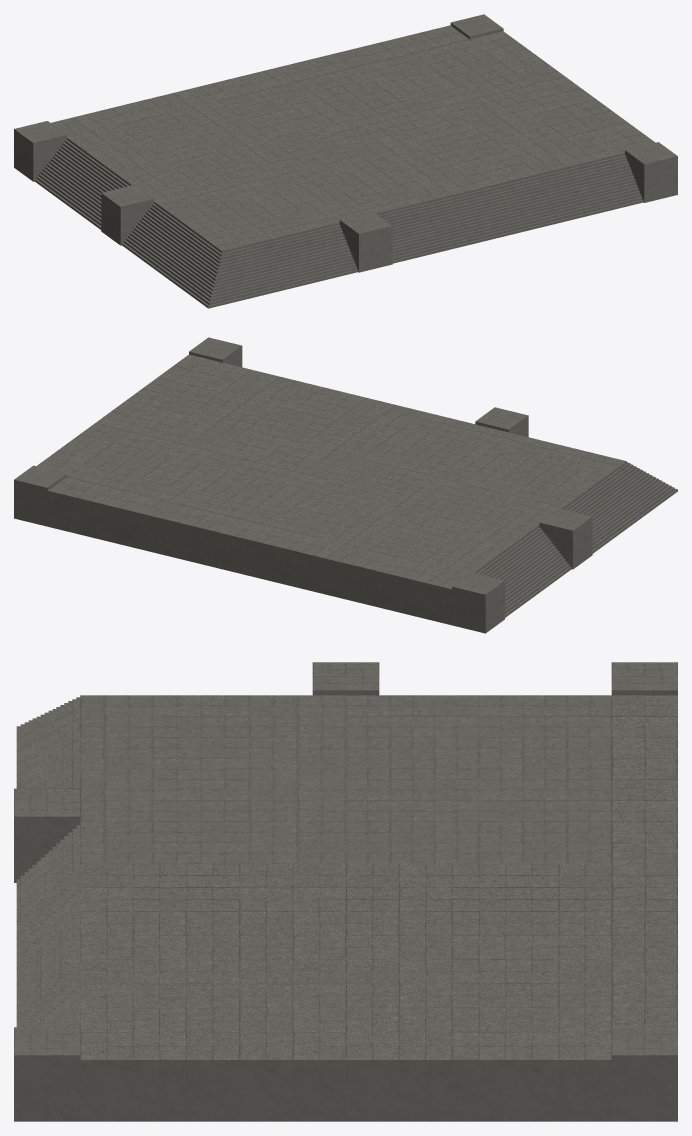
Rendered from basement_mid.fbx.
3 views of the same model, one above another, from view 1: azimuth 30°, elevation 25°; view 2: azimuth 150°, elevation 25°; view 3: azimuth 270°, elevation 25° (orthographic). The views are drawn at different scales.
Parts seen in each view (by area): view 1: basement_mid; view 2: basement_mid; view 3: basement_mid.
Part boxes in pixels (bbox=[...]): basement_mid: bbox=[14, 14, 677, 308]; basement_mid: bbox=[14, 337, 677, 633]; basement_mid: bbox=[14, 662, 677, 1121].
Bounding box in the file's own units: 7000 × 550 × 5000.
